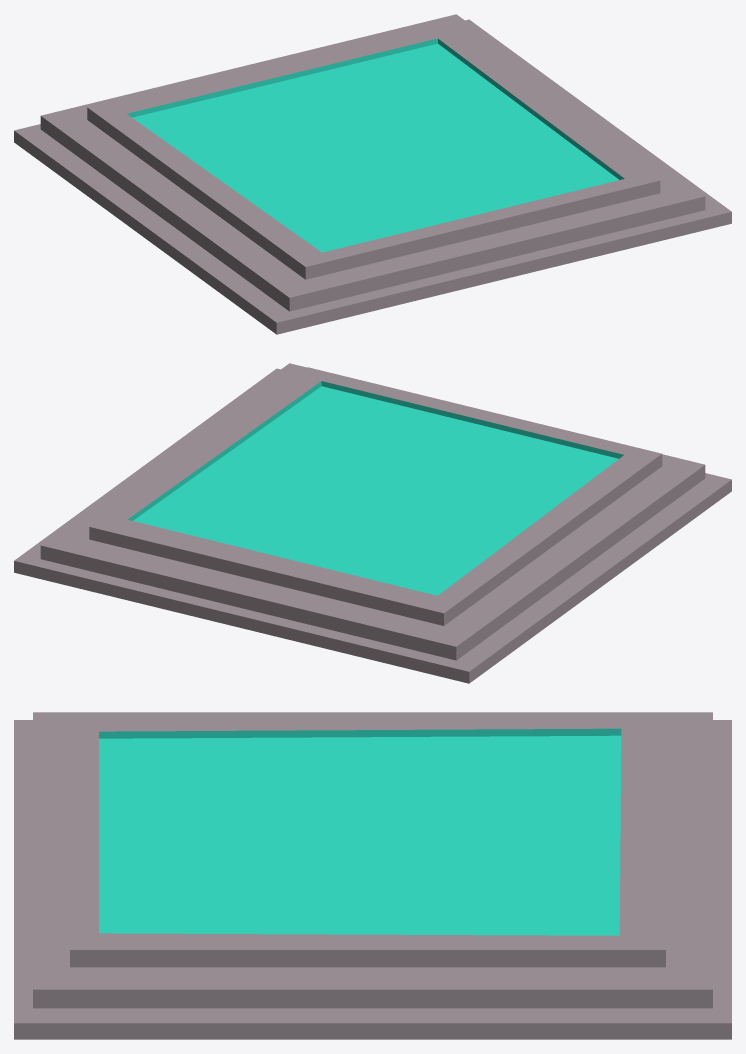
File: pad.fbx
The picture shows the model from 3 angles, top to bottom: view 1: azimuth 30°, elevation 25°; view 2: azimuth 150°, elevation 25°; view 3: azimuth 270°, elevation 25°; orthographic projection. The views are drawn at different scales.
Parts seen in each view (by area): view 1: Cube.001, Cube; view 2: Cube.001, Cube; view 3: Cube.001, Cube.
Boxes of the visible parts, x1=… form: Cube.001: x1=40, y1=14, x2=705, y2=311; Cube: x1=14, y1=19, x2=731, y2=334; Cube.001: x1=40, y1=363, x2=705, y2=660; Cube: x1=14, y1=368, x2=731, y2=683; Cube.001: x1=33, y1=712, x2=712, y2=1008; Cube: x1=14, y1=720, x2=731, y2=1039.
Size of the model in its own units: 200 by 17.06 by 200.
